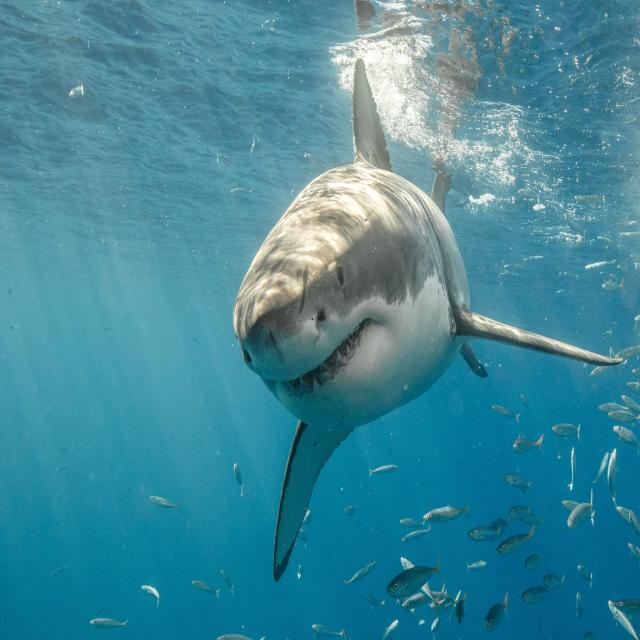shark: (233, 60, 620, 580)
